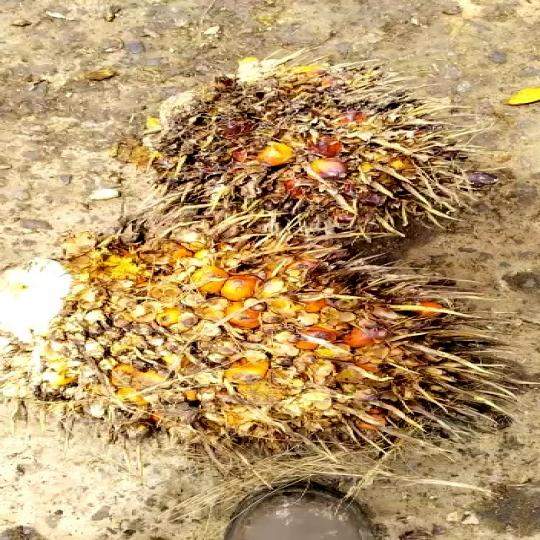terlalu masak: (25, 231, 516, 460), (138, 55, 485, 237)
